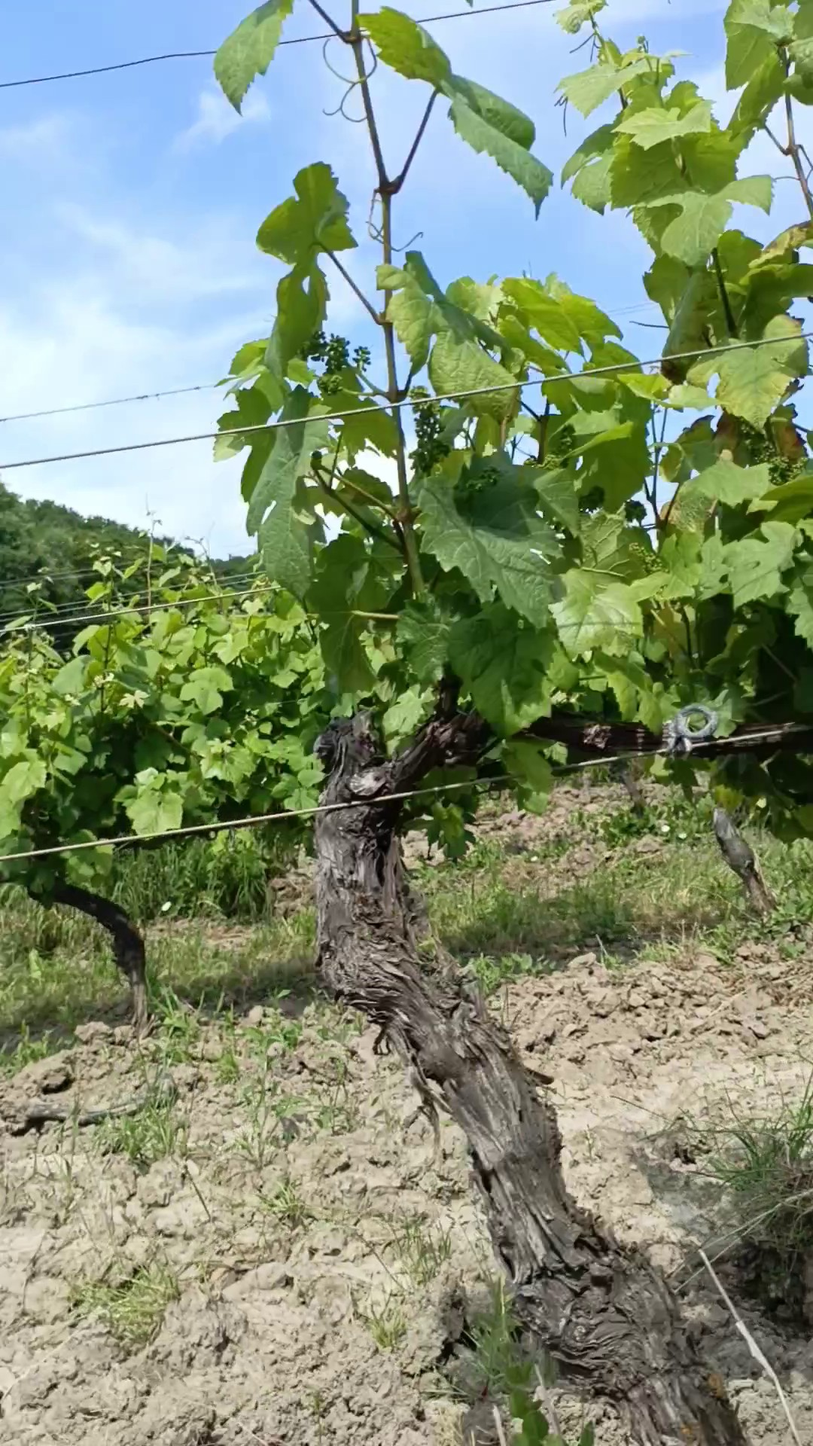vine_trunk: (315, 693, 744, 1445)
